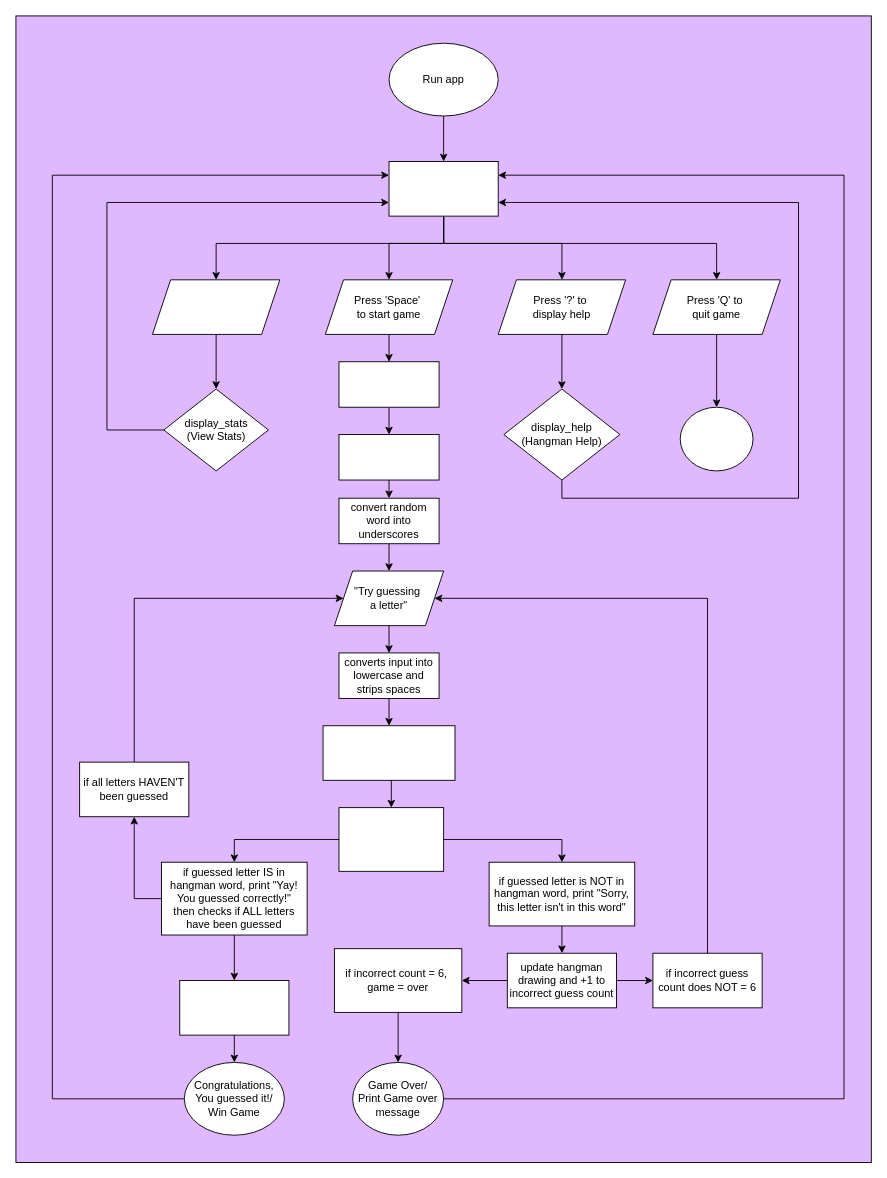
This 887x1178 diagram has some shape labels left out. Here are the shapes that lost their labels. From the top down, the centre of each, then its label:
[443,188]: create_menu (displays menu)
[216,306]: Press 'S' to view stats
[388,384]: draw_hangman
[388,457]: generate random word
[716,438]: Quit Game
[388,752]: if the user inputs more than one letter, print "Please only select one letter"
[391,839]: checks if the guessed letter is in word, and save to already guessed list
[234,1007]: if all letters HAVE been guessed
